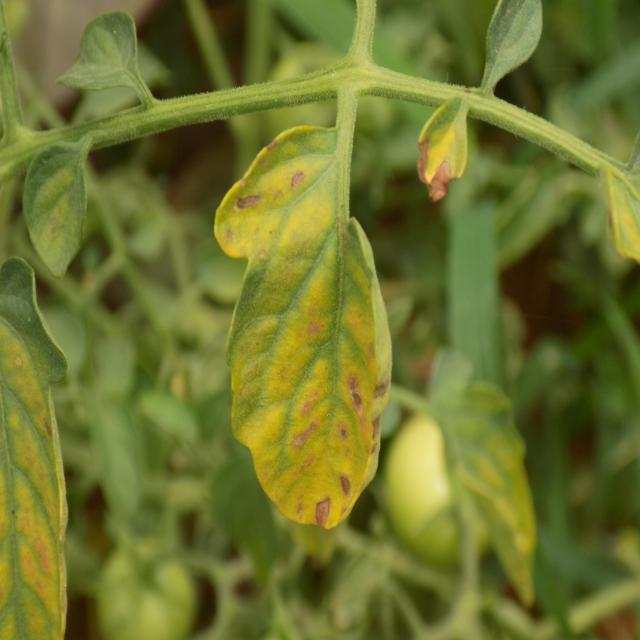tomato_early blight: (215, 116, 391, 528), (0, 258, 72, 640), (418, 105, 465, 197)
